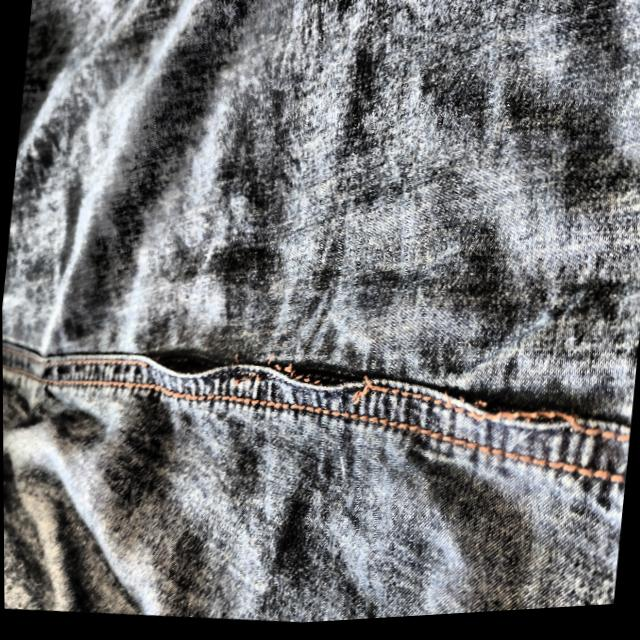seam: (433, 381, 601, 455), (262, 342, 373, 416), (126, 331, 243, 388)
